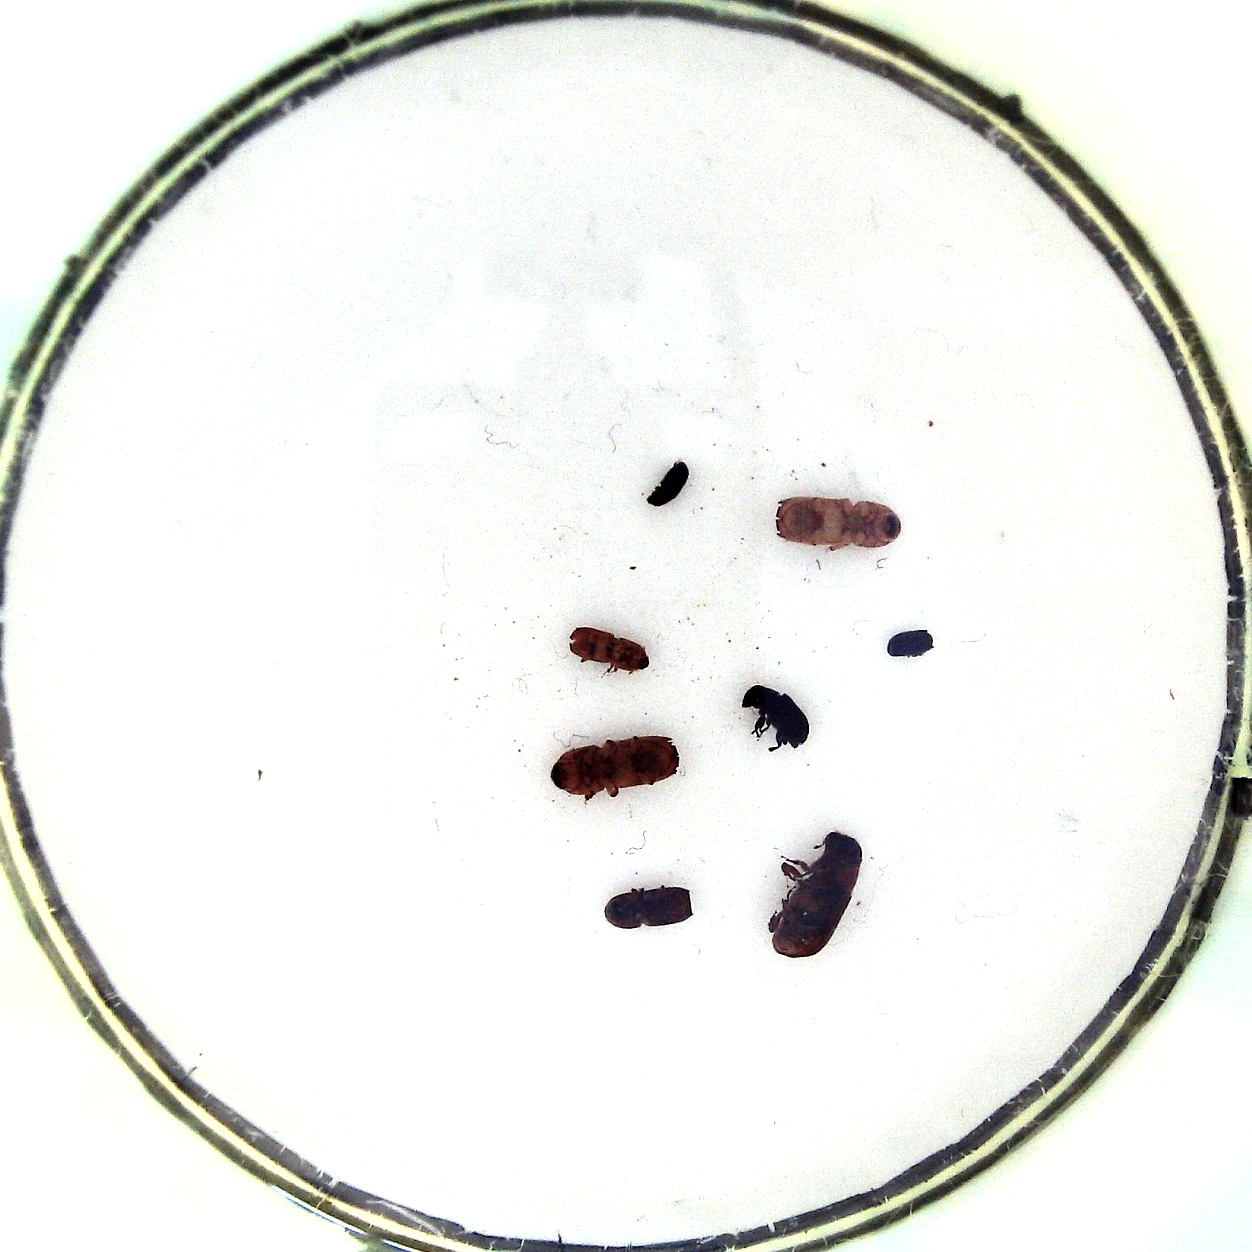Boerner: (549, 734, 684, 799), (767, 496, 905, 551)
Leconte: (767, 831, 868, 962)
Linnaeus: (600, 875, 695, 939)
acuminatus: (568, 626, 656, 674)
armandi: (741, 680, 808, 762)
coleoptera: (884, 626, 941, 670), (643, 462, 689, 514)
